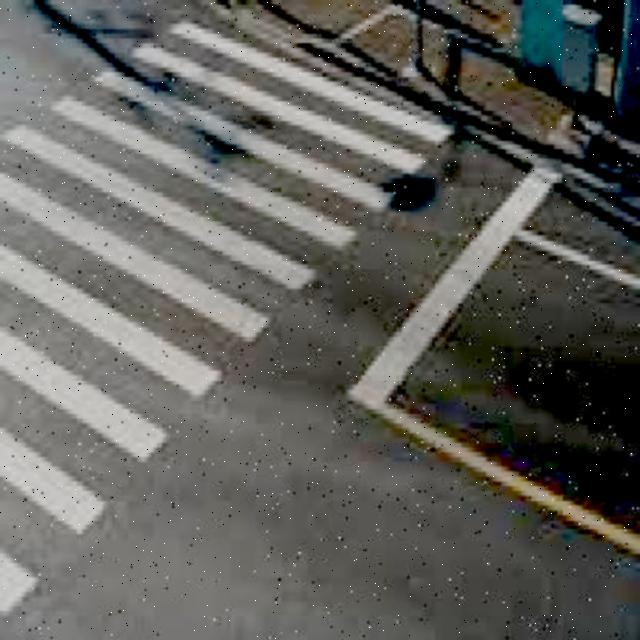crosswalk: (3, 10, 445, 573)
